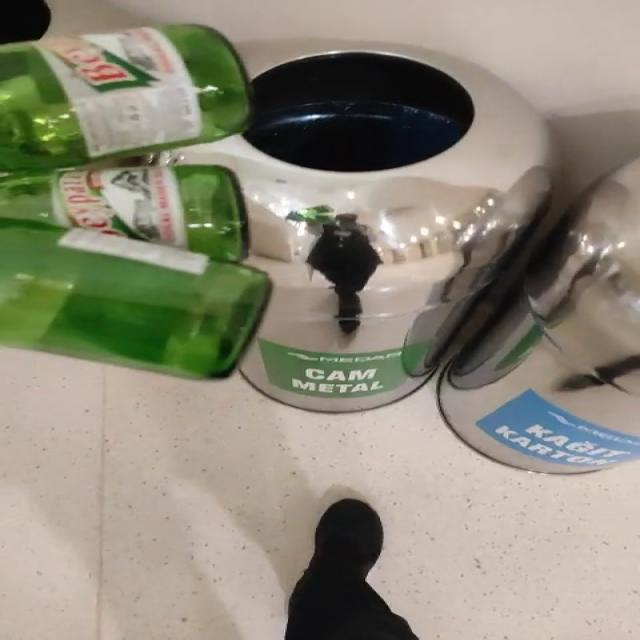bin: (176, 39, 549, 412)
glass: (0, 24, 271, 378)
